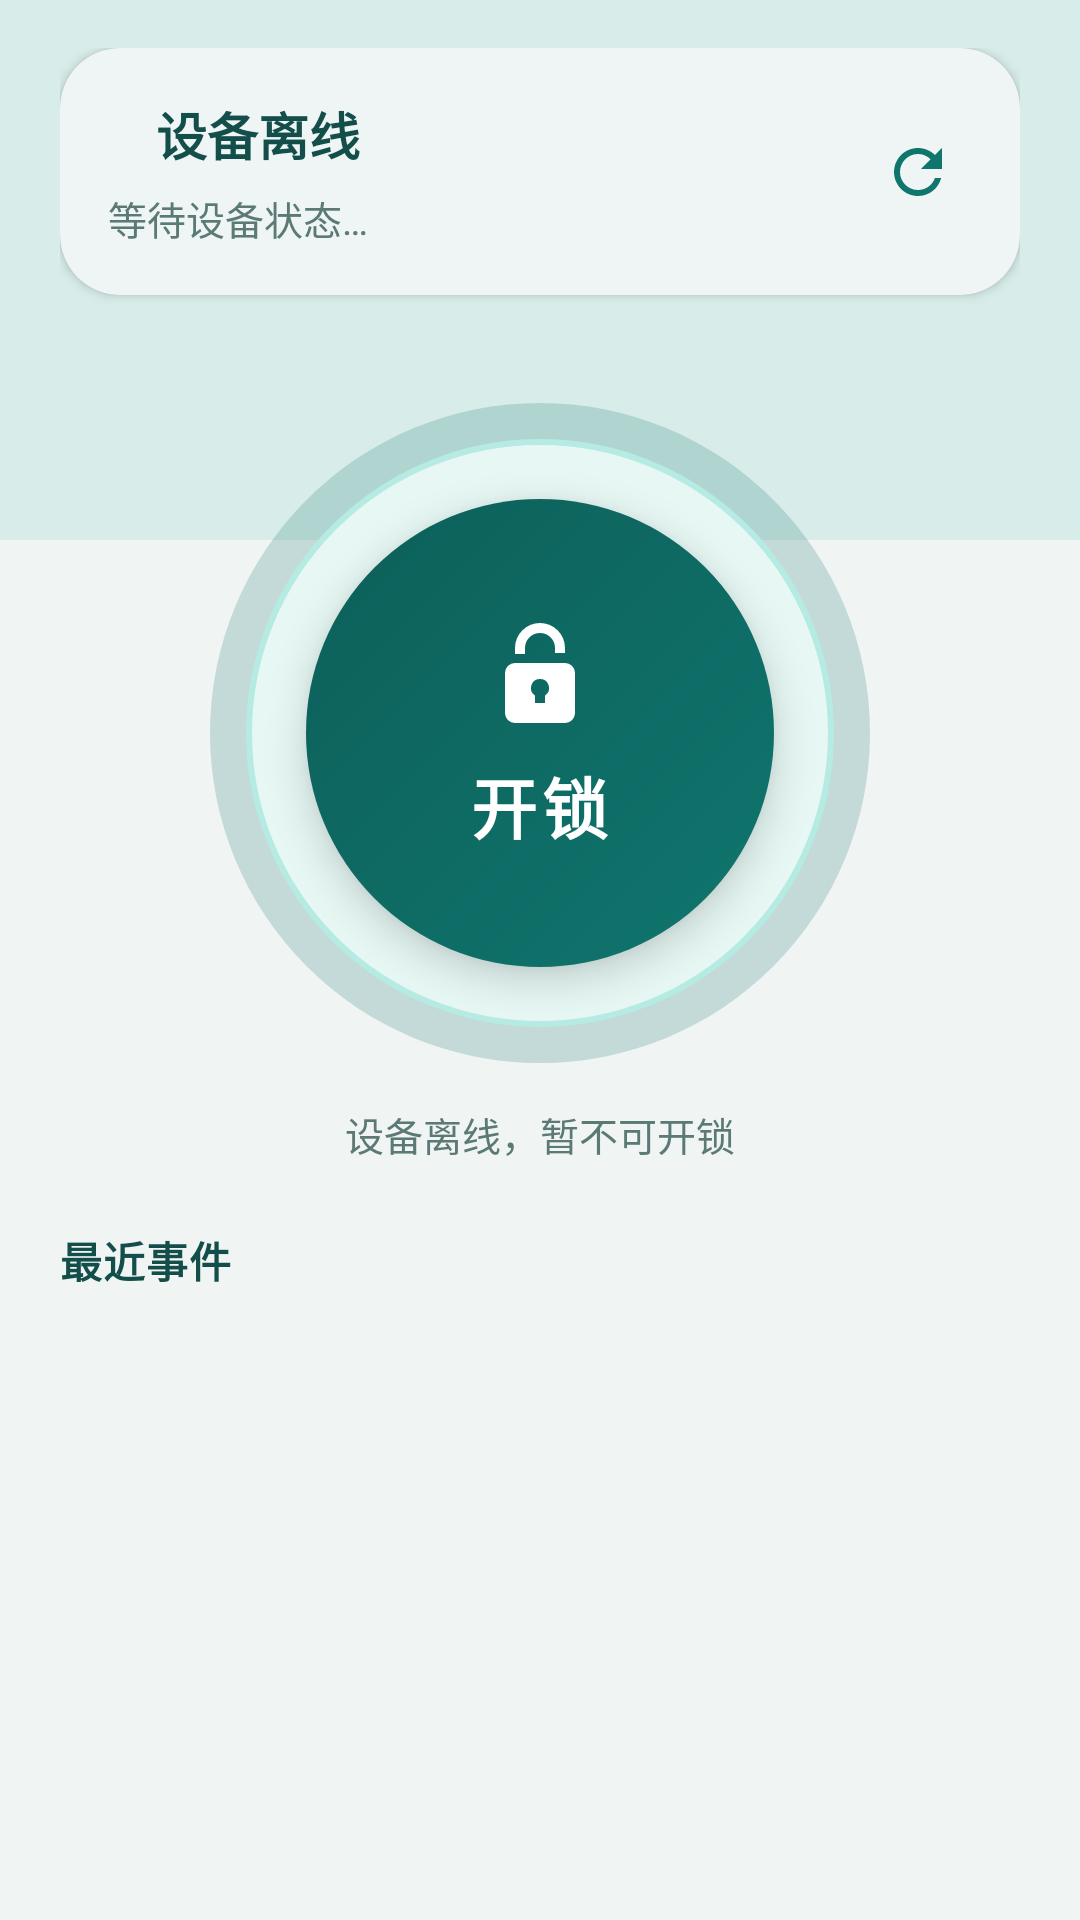

Named icons in this screenshot (1080px x 1920px) and their centers, (x,y):
unlock action: (540,673)
刷新状态: (918,172)
